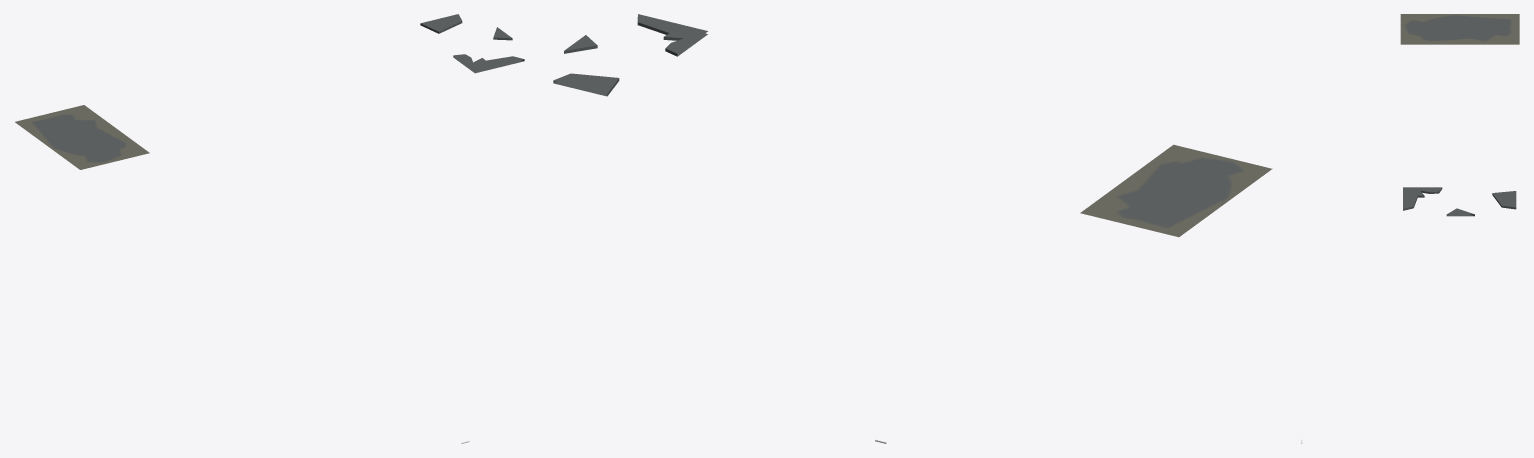
Rendered from cubes.glb.
The picture shows the model from 3 angles, left to right: view 1: azimuth 30°, elevation 25°; view 2: azimuth 150°, elevation 25°; view 3: azimuth 270°, elevation 25°; orthographic projection. The views are drawn at different scales.
Visible parts, largest first — view 1: SM_Bld_House_02_Glass_01_1; view 2: SM_Bld_House_02_Glass_01_1; view 3: SM_Bld_House_02_Glass_01_1.
Part boxes in pixels (bbox=[...]): SM_Bld_House_02_Glass_01_1: bbox=[15, 14, 524, 169]; SM_Bld_House_02_Glass_01_1: bbox=[553, 14, 1272, 237]; SM_Bld_House_02_Glass_01_1: bbox=[1400, 14, 1519, 216].
Size of the model in its own units: 584 by 384 by 267.
Materials: 1 (1 with a texture image).
